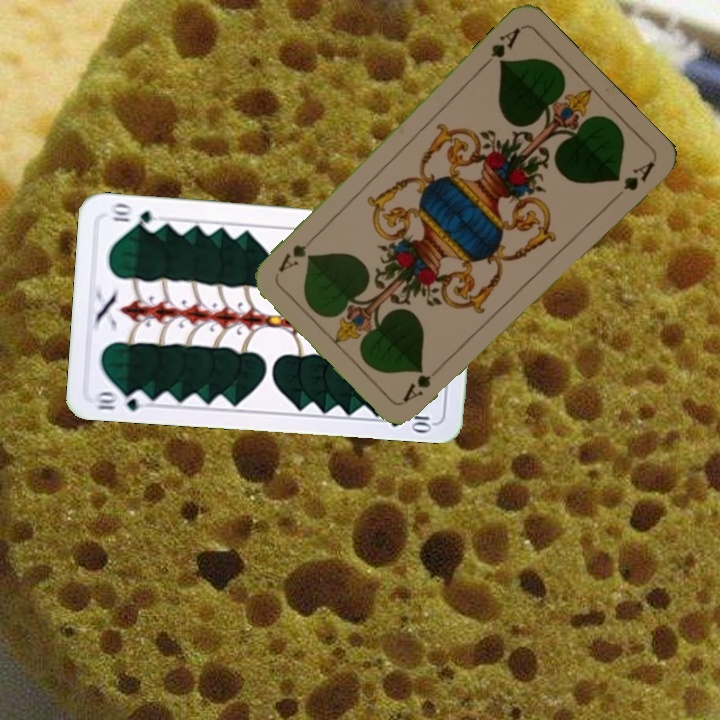G10: (90, 386, 150, 414)
GA: (478, 23, 523, 71), (398, 370, 434, 405)
